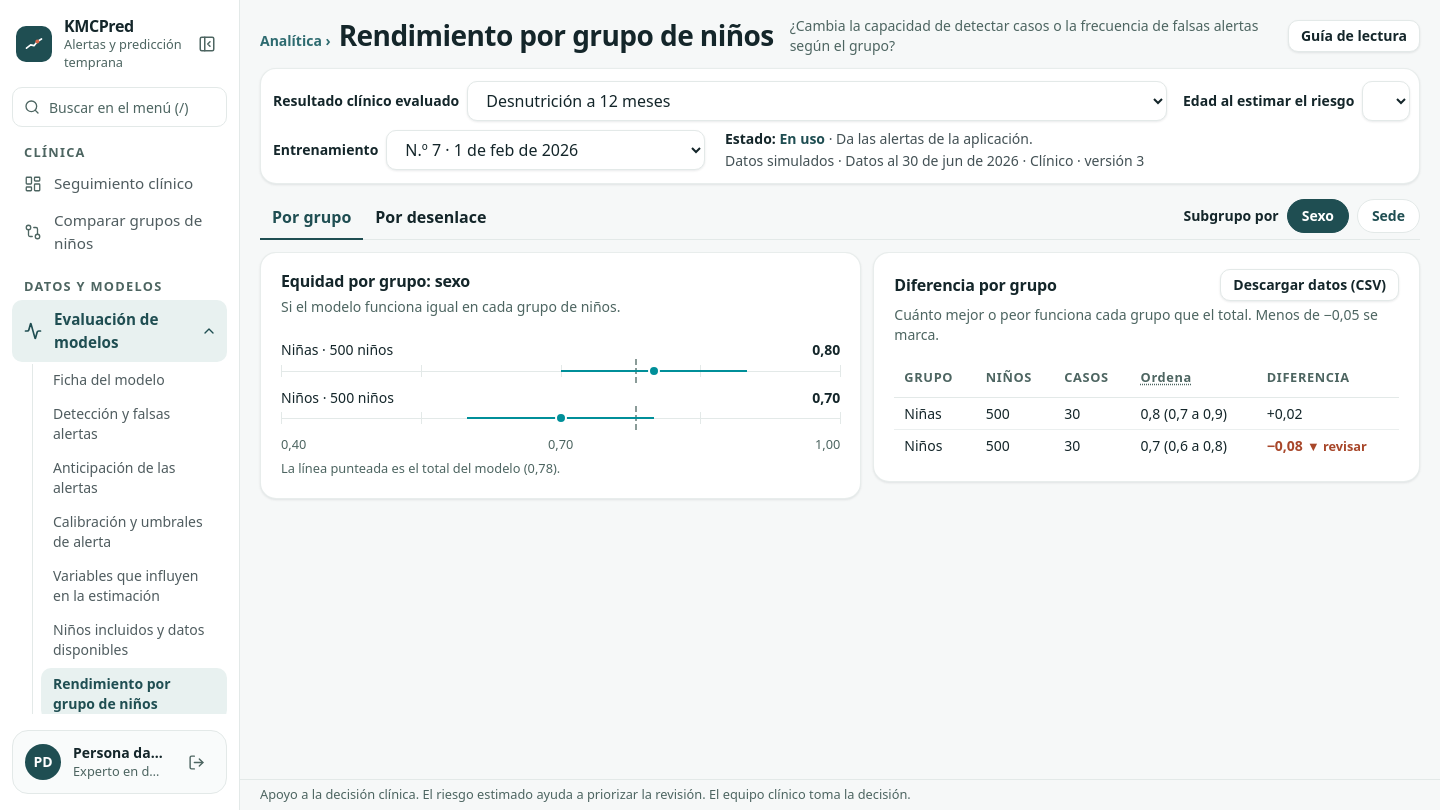
Test: Equidad en pestañas › el «Subgrupo por» elegido vale para las dos pestañas
The image size is (1440, 810).
Click the button "Sede" at (1388, 216), box [1357, 199, 1420, 233]
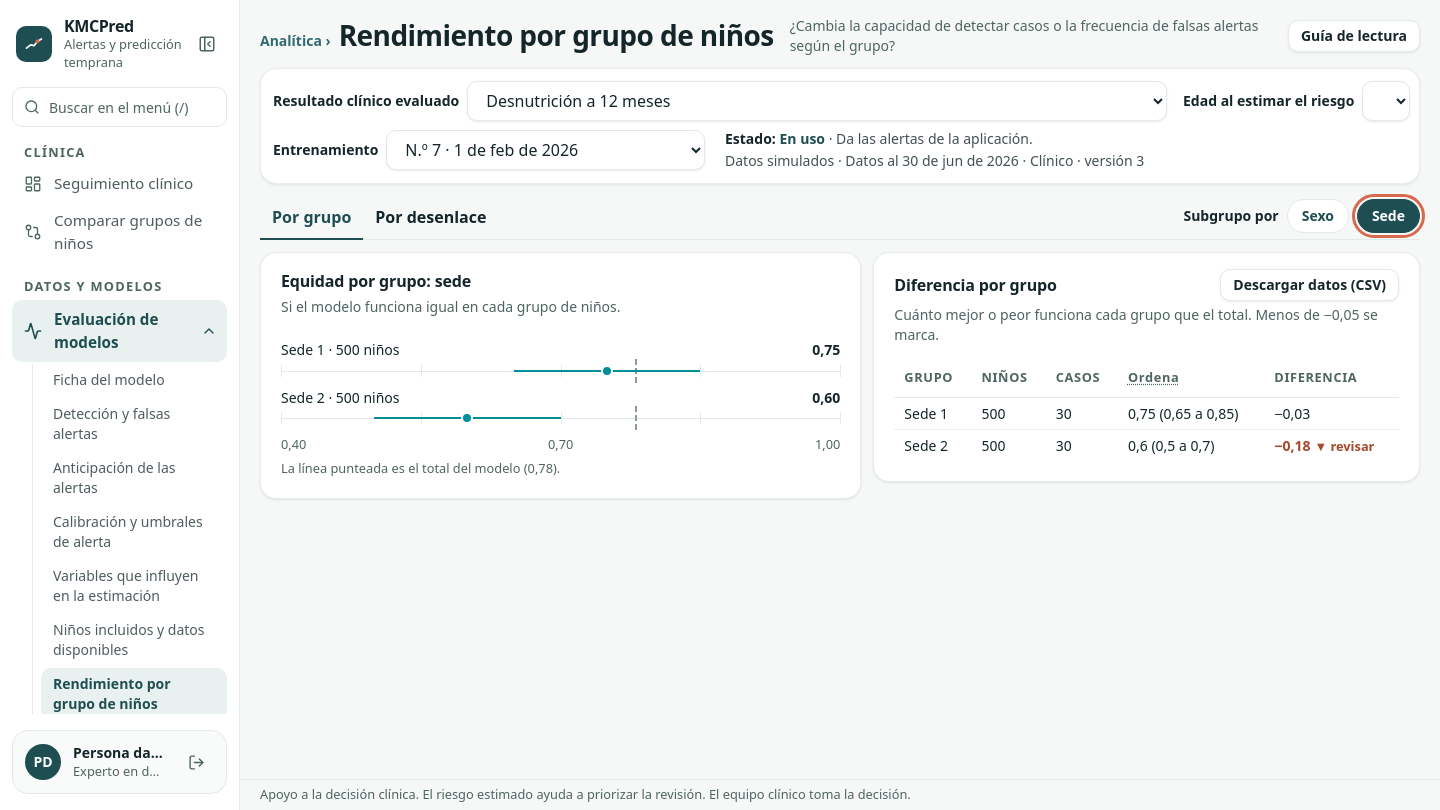
Expected: the heading "Equidad por grupo: sede" is shown, [281, 269, 471, 293]
Click the tab "Por desenlace" at (431, 218), box [363, 196, 498, 240]
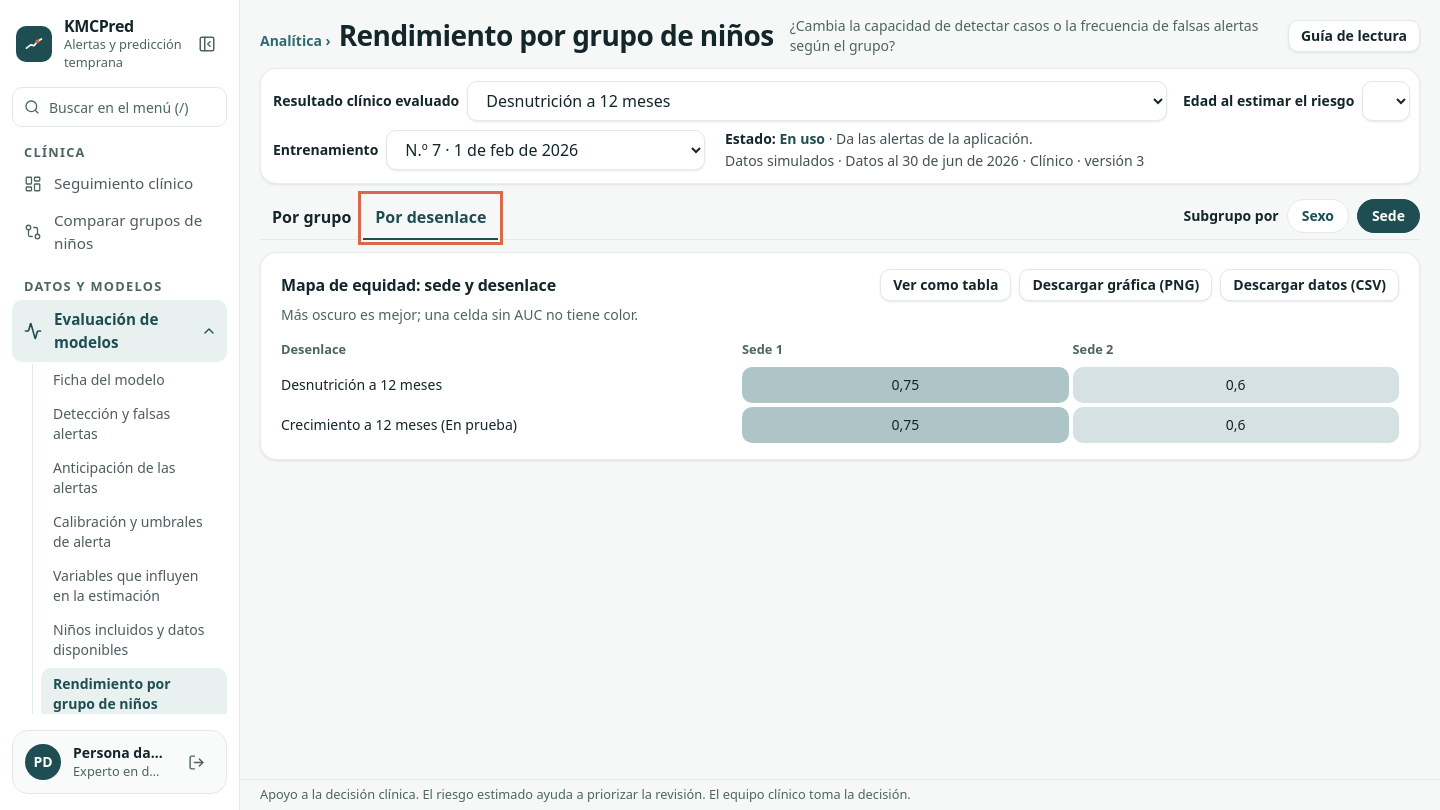
Expected: the button "Sede" is shown, [1357, 199, 1420, 233]
Expected: the column heading "Sede 1" is shown, [742, 340, 783, 358]
Expected: the heading "Mapa de equidad: sede y desenlace" is shown, [281, 273, 556, 297]
